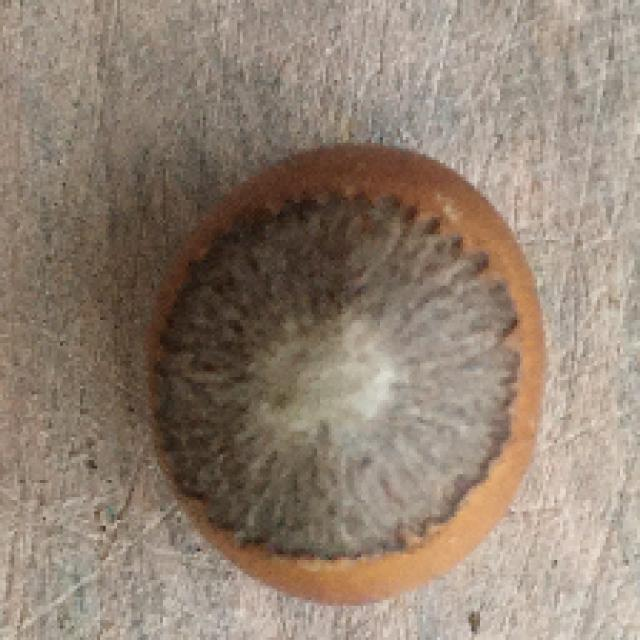qualityHazelnut: (128, 139, 546, 613)
